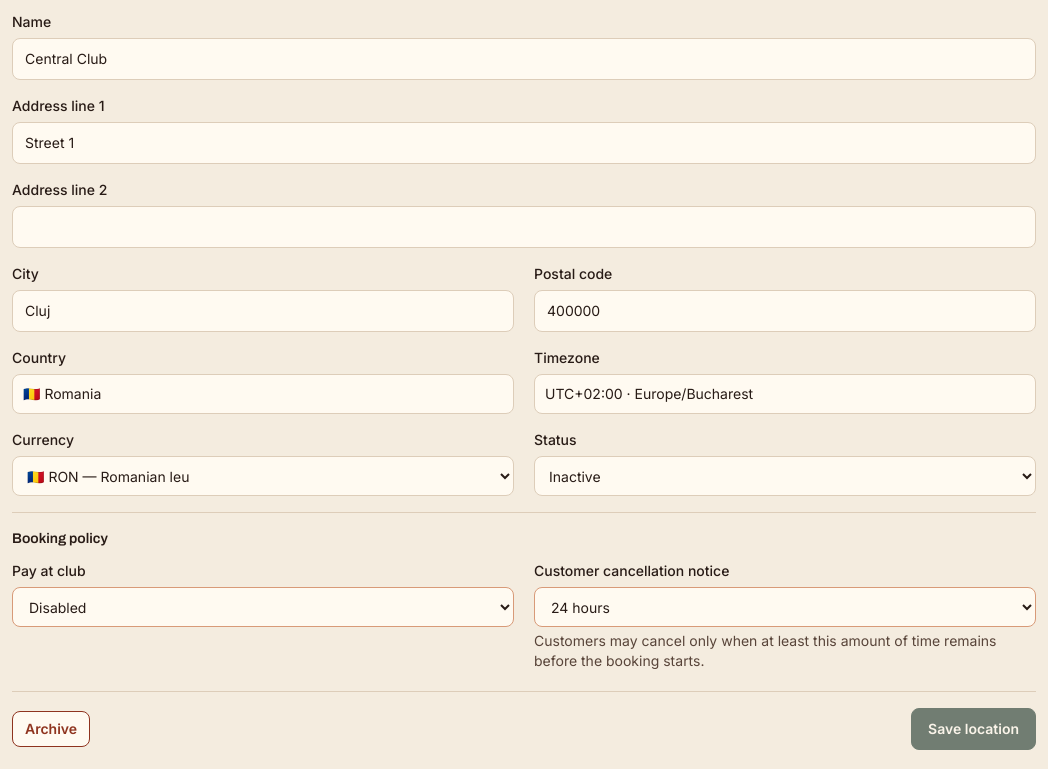
Test: explains a server-rejected currency change in place and keeps the draft
Expected: the dropdown labelled "Currency" is enabled, left=12, top=456, right=514, bottom=496
Replace the text in the field labelled "Name" with "Renamed Club" at (524, 59), box left=12, top=38, right=1036, bottom=80
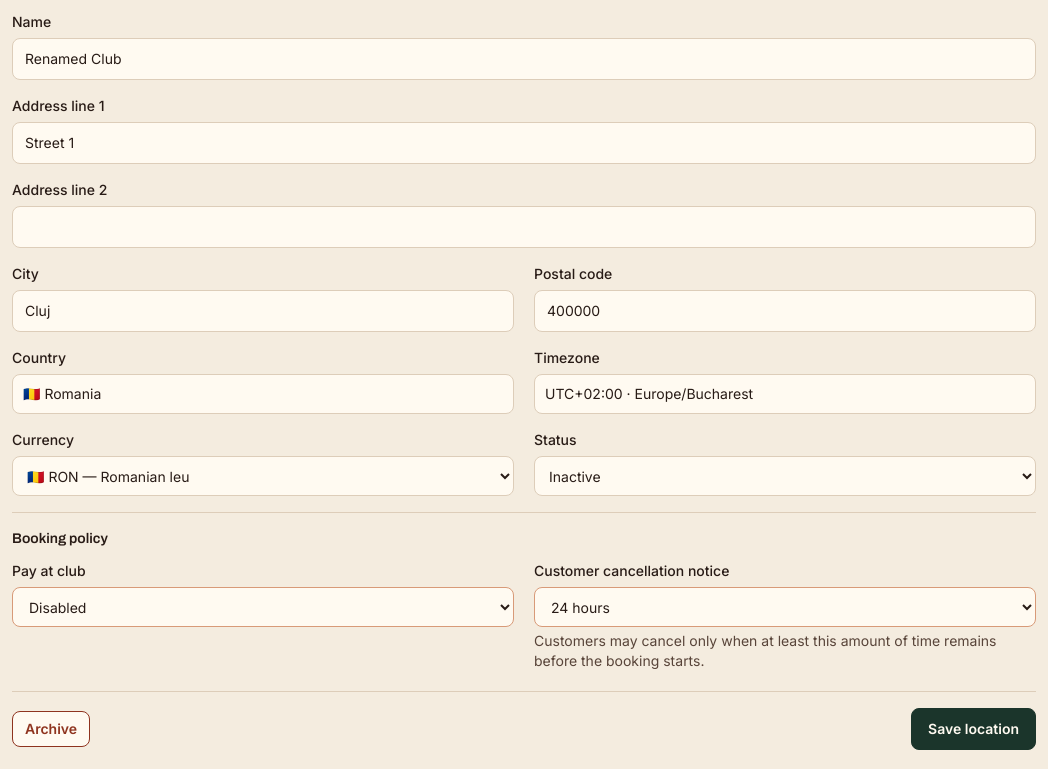
Select "🇪🇺 EUR — Euro" in the dropdown labelled "Currency" at (263, 476), box left=12, top=456, right=514, bottom=496
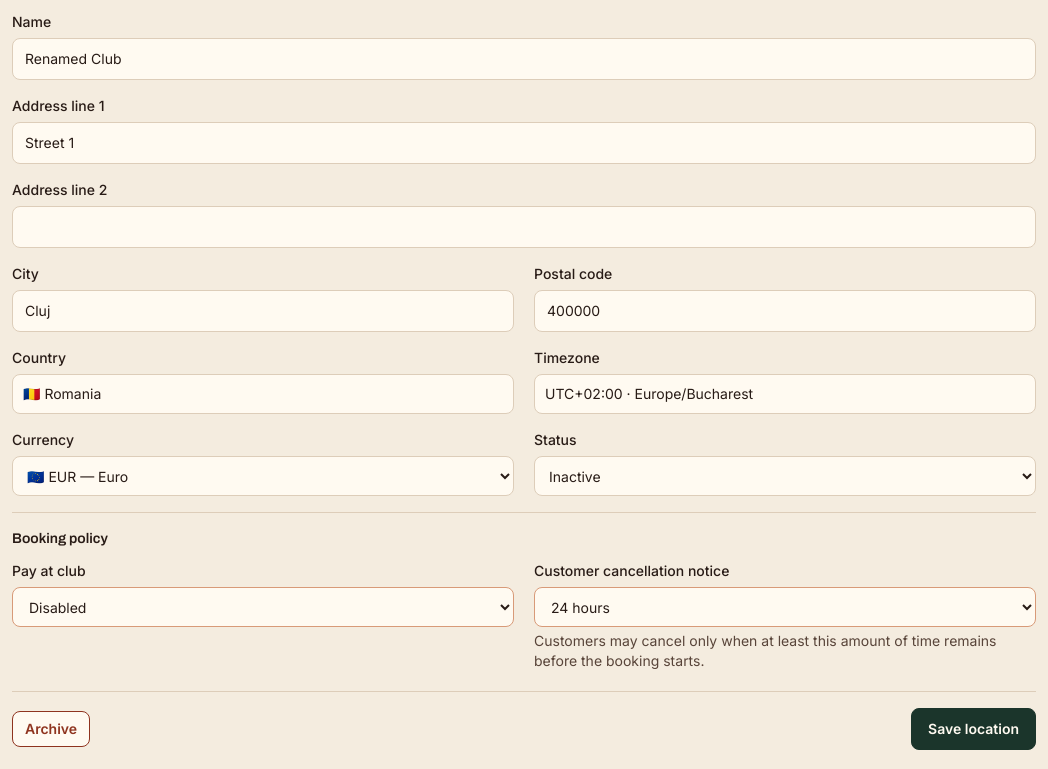
Click the button "Save location" at (974, 729), box left=911, top=708, right=1036, bottom=750
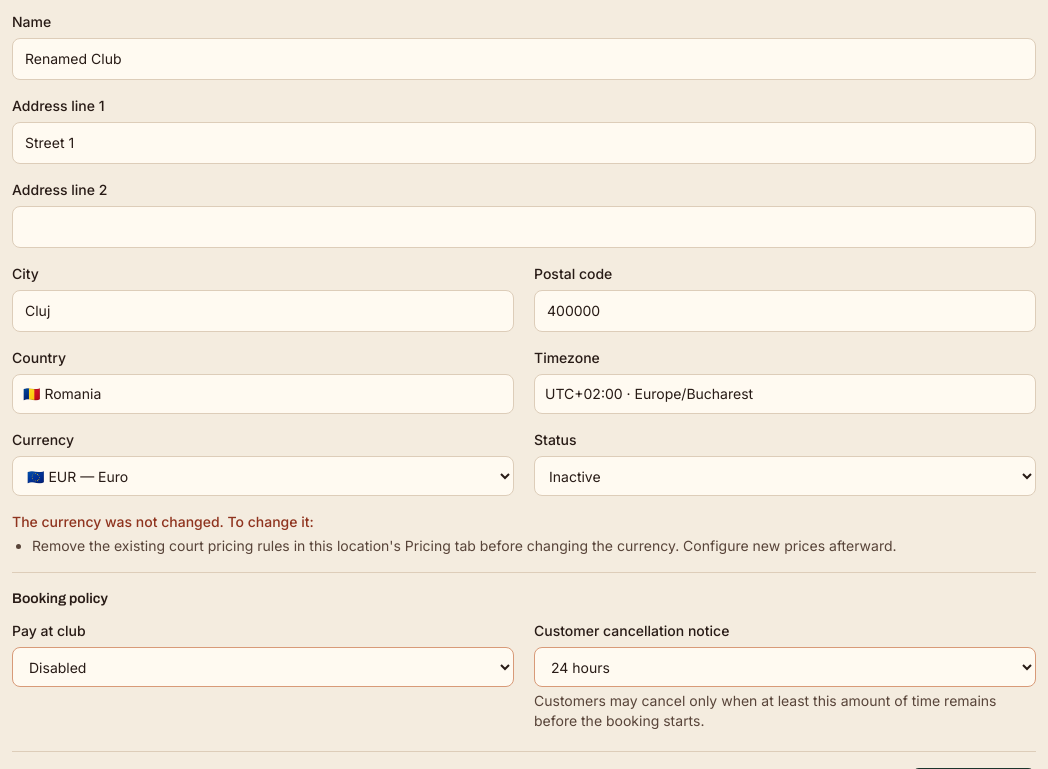
Select "🇷🇴 RON — Romanian leu" in the dropdown labelled "Currency" at (263, 476), box left=12, top=456, right=514, bottom=496
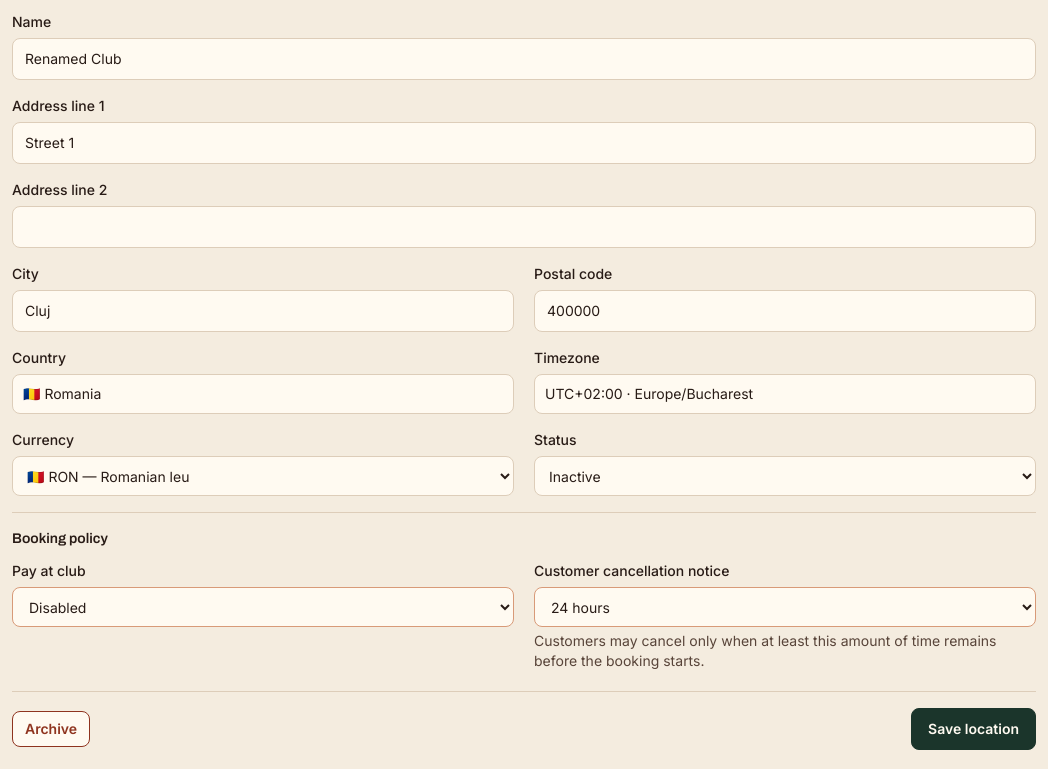
Now the text "The currency was not changed" is gone
